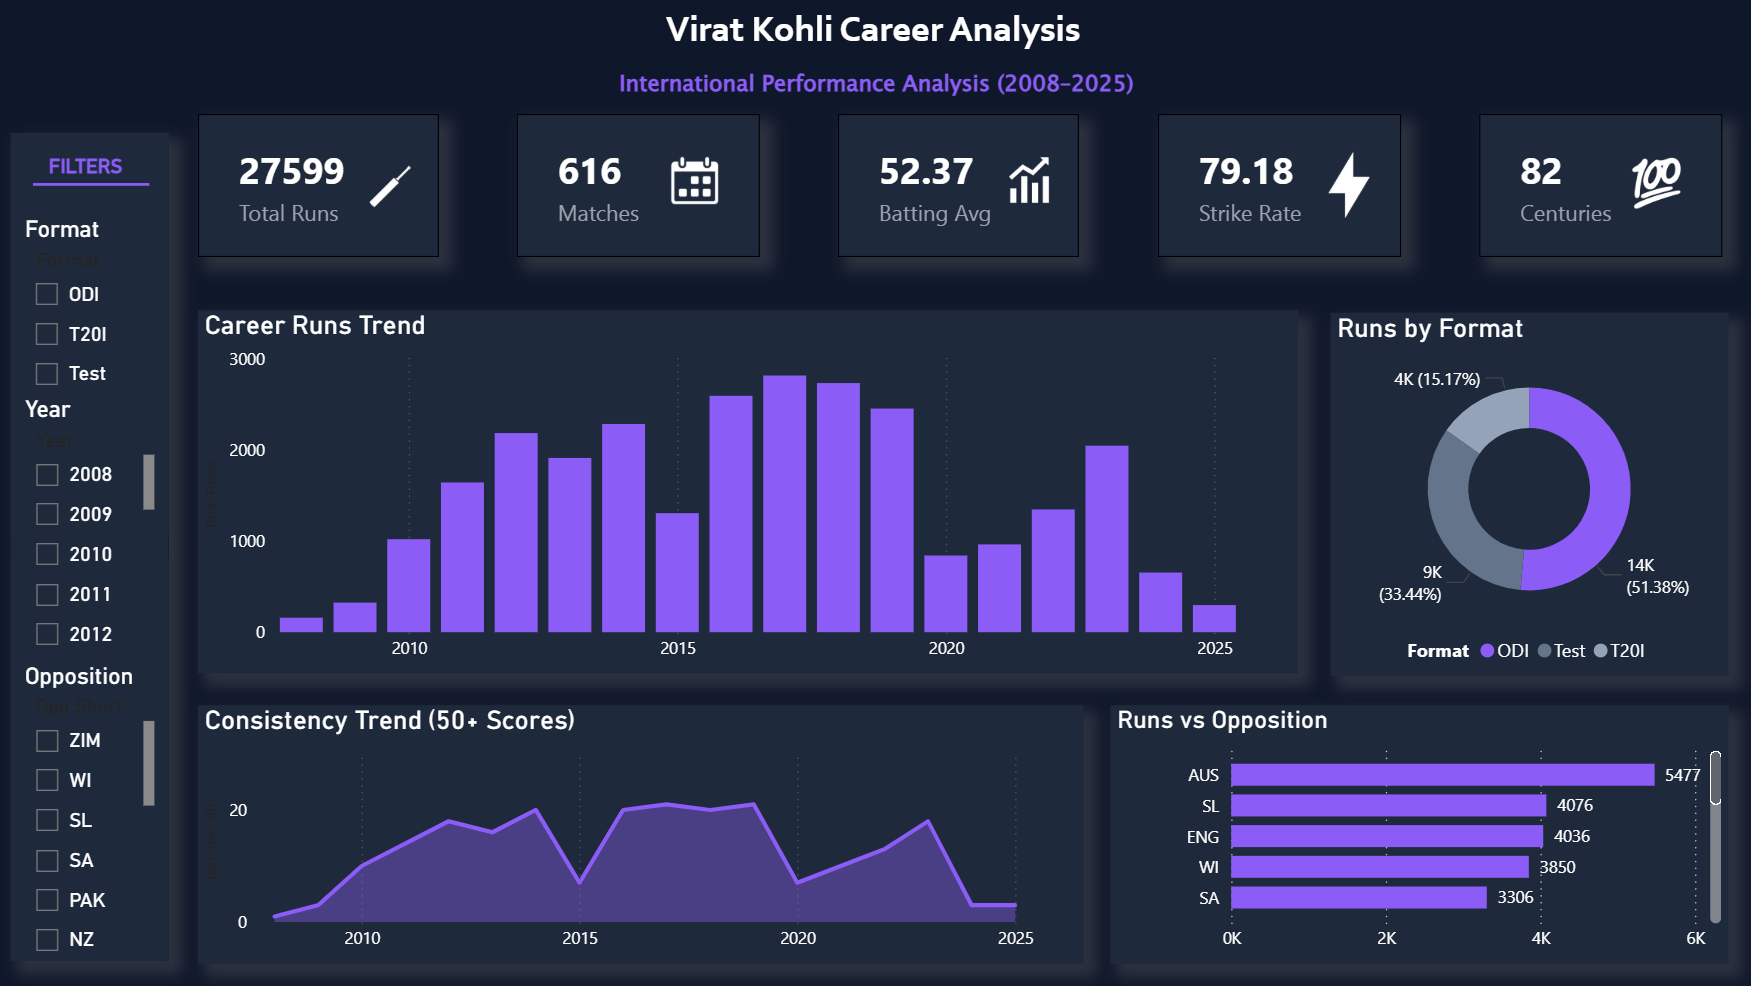

The page's visual inventory and layout, read from the dashboard file:
{"tool":"powerbi","page":{"name":"Career Overview","canvas":[1280,720],"ordinal":0},"visuals":[{"type":"cardVisual","fields":{"Data":["Key Measures.Total Runs"]},"box":[148.9,83.5,175.3,104.3],"z":0},{"type":"cardVisual","fields":{"Data":["Key Measures.Matches Played"]},"box":[381.2,83.5,176.7,104.3],"z":1000},{"type":"cardVisual","fields":{"Data":["Key Measures.Batting Average"]},"box":[615,83.5,175.3,104.3],"z":2000},{"type":"cardVisual","fields":{"Data":["Key Measures.Strike Rate"]},"box":[847.3,83.5,176.7,104.3],"z":3000},{"type":"cardVisual","fields":{"Data":["Key Measures.Centuries"]},"box":[1081,83.5,176.7,104.3],"z":4000},{"type":"columnChart","title":"Career Runs Trend","fields":{"Category":["Dim_Calendar.Year"],"Y":["Key Measures.Total Runs"]},"box":[148.9,226.8,800,264.3],"z":5000},{"type":"donutChart","title":"Runs by Format","fields":{"Y":["Key Measures.Total Runs"],"Category":["Dim_Format.Format"]},"box":[972.5,228.2,289.4,264.3],"z":6000},{"type":"clusteredBarChart","title":"Runs vs Opposition","fields":{"Y":["Key Measures.Total Runs"],"Category":["Dim_Opposition.Opp Short"]},"box":[812.5,513.4,449.4,187.8],"z":7000},{"type":"lineChart","title":"Consistency Trend (50+ Scores)","fields":{"Category":["Dim_Calendar.Year"],"Y":["Key Measures.Matches 50+"]},"box":[148.9,513.4,644.2,187.8],"z":8000},{"type":"shape","box":[13.3,83.2,114.6,616.5],"z":9000},{"type":"slicer","title":"Format","fields":{"Values":["Dim_Format.Format"]},"box":[18.1,157.2,104.3,137.7],"z":10000},{"type":"textbox","box":[35.9,107.7,70.5,32.1],"z":11000},{"type":"shape","box":[29.5,107.7,84.6,55.1],"z":12000},{"type":"slicer","title":"Year","fields":{"Values":["Dim_Calendar.Year"]},"box":[18.1,288,104.3,193.4],"z":13000},{"type":"slicer","title":"Opposition","fields":{"Values":["Dim_Opposition.Opp Short"]},"box":[18.1,481.4,104.3,218.4],"z":14000},{"type":"image","box":[264.3,114.1,48.7,48.7],"z":15000},{"type":"image","box":[487,107.1,48.7,48.7],"z":16000},{"type":"image","box":[729,107.1,48.7,48.7],"z":17000},{"type":"image","box":[961.4,111.3,48.7,48.7],"z":18000},{"type":"image","box":[1185.4,107.1,48.7,48.7],"z":19000},{"type":"textbox","box":[0,0,1280,43.1],"z":20000},{"type":"textbox","box":[0,44.5,1280,39],"z":21000}]}

Visuals, with their boxes in screenshot pixels (x1, y1, x2, y2), scaled from the page's 1280x720 canvas onto the 1751x986 screenshot:
cardVisual - Key Measures.Total Runs: locate(204, 114, 443, 257)
cardVisual - Key Measures.Matches Played: locate(521, 114, 763, 257)
cardVisual - Key Measures.Batting Average: locate(841, 114, 1081, 257)
cardVisual - Key Measures.Strike Rate: locate(1159, 114, 1401, 257)
cardVisual - Key Measures.Centuries: locate(1479, 114, 1720, 257)
"Career Runs Trend" columnChart: locate(204, 311, 1298, 673)
"Runs by Format" donutChart: locate(1330, 313, 1726, 674)
"Runs vs Opposition" clusteredBarChart: locate(1111, 703, 1726, 960)
"Consistency Trend (50+ Scores)" lineChart: locate(204, 703, 1085, 960)
shape: locate(18, 114, 175, 958)
"Format" slicer: locate(25, 215, 167, 404)
textbox: locate(49, 147, 146, 191)
shape: locate(40, 147, 156, 223)
"Year" slicer: locate(25, 394, 167, 659)
"Opposition" slicer: locate(25, 659, 167, 958)
image: locate(362, 156, 428, 223)
image: locate(666, 147, 733, 213)
image: locate(997, 147, 1064, 213)
image: locate(1315, 152, 1382, 219)
image: locate(1622, 147, 1688, 213)
textbox: locate(0, 0, 1750, 59)
textbox: locate(0, 61, 1750, 114)
